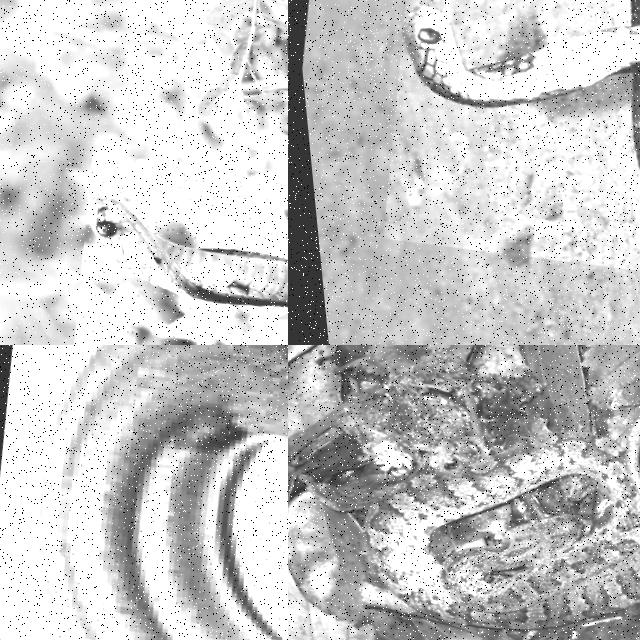Calliophis maculiceps: (40, 345, 287, 639)
Naja siamensis: (88, 200, 287, 311)
Ophiophagus hannah: (403, 0, 639, 162)
Ovophis monticola: (365, 420, 639, 629)
